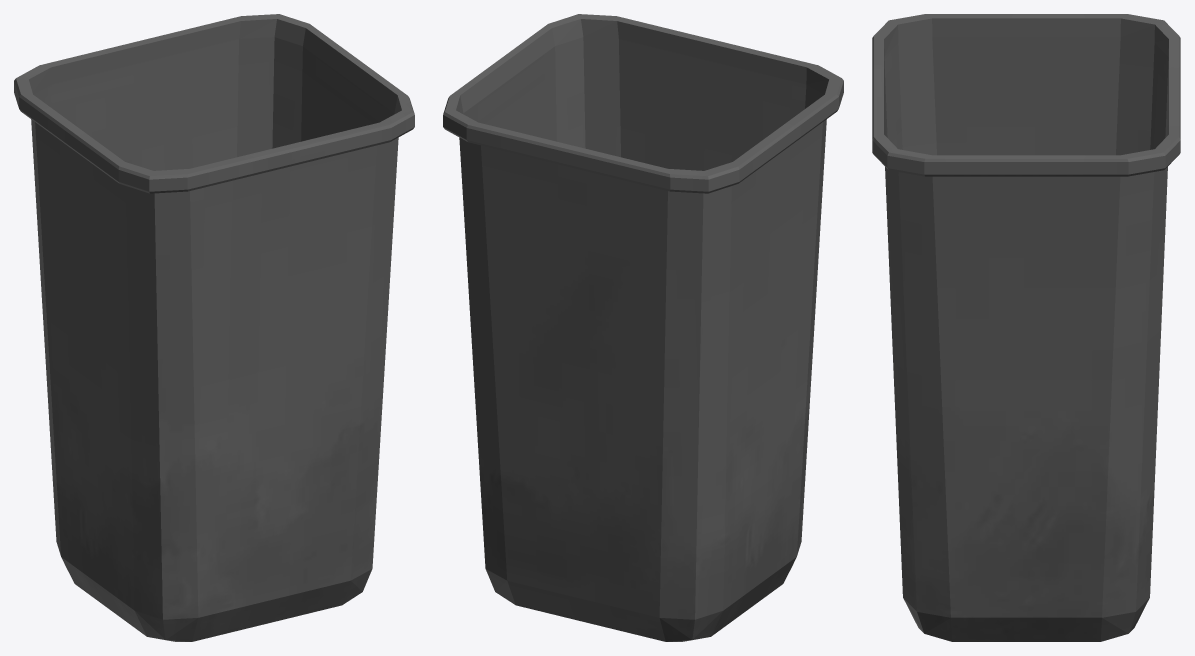
Rendered from strProp_54.glb.
The picture shows the model from 3 angles, left to right: view 1: azimuth 30°, elevation 25°; view 2: azimuth 150°, elevation 25°; view 3: azimuth 270°, elevation 25°; orthographic projection. The views are drawn at different scales.
Visible parts, largest first — view 1: geometry_0; view 2: geometry_0; view 3: geometry_0.
Part boxes in pixels (<box>): geometry_0: <box>14,14,414,641</box>; geometry_0: <box>443,14,843,641</box>; geometry_0: <box>872,14,1180,641</box>.
Bounding box in the file's own units: 0.6344 × 1.05 × 0.5661.
Materials: 1 (1 with a texture image).
